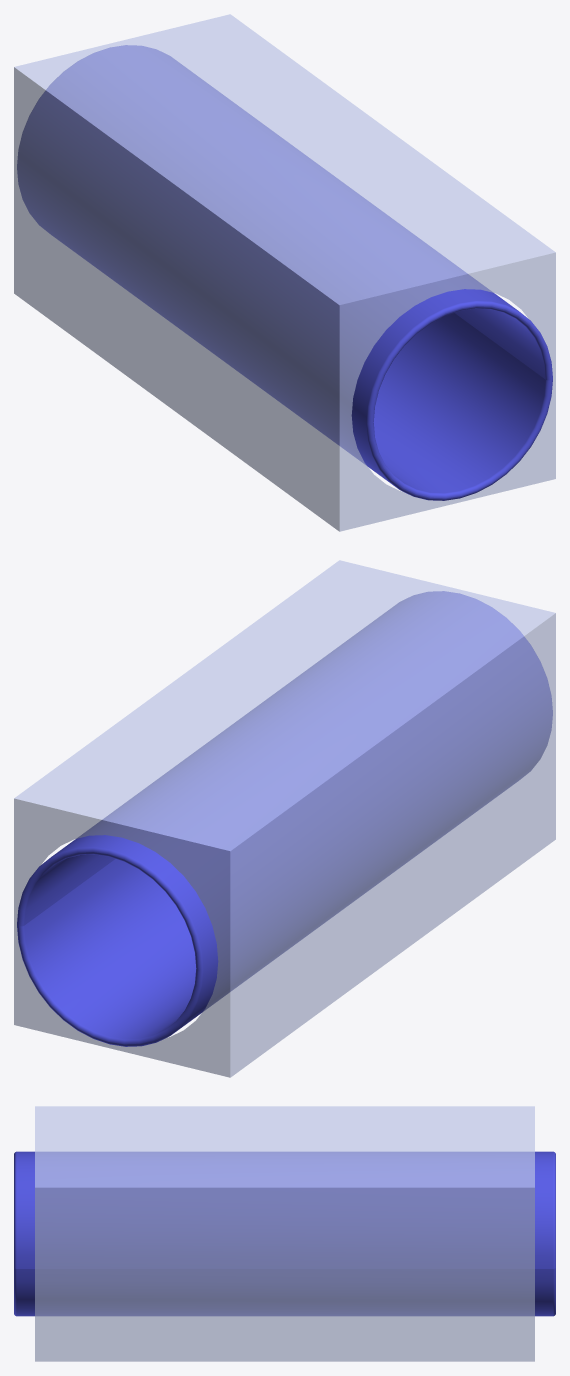
The model's file is werkblok.glb.
3 views of the same model, one above another, from view 1: azimuth 30°, elevation 25°; view 2: azimuth 150°, elevation 25°; view 3: azimuth 270°, elevation 25° (orthographic). The views are drawn at different scales.
Visible parts, largest first — view 1: Cube, Tube; view 2: Cube, Tube; view 3: Cube, Tube.
Boxes of the visible parts, <box> form: Cube: <box>14,14,555,531</box>; Tube: <box>17,45,552,500</box>; Cube: <box>14,560,555,1077</box>; Tube: <box>17,591,552,1046</box>; Cube: <box>35,1106,534,1361</box>; Tube: <box>14,1151,555,1316</box>.
Size of the model in its own units: 0.2685 by 0.2685 by 0.7578.
